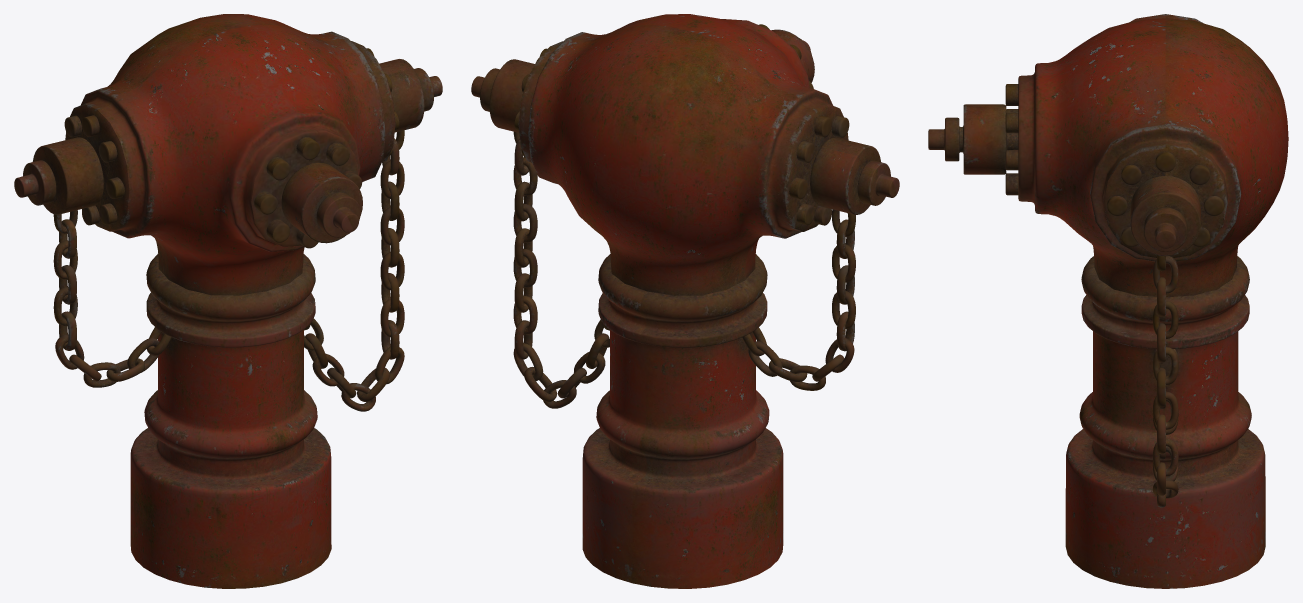
Rendered from HYDRANT.fbx.
3 views of the same model, side by side, from view 1: azimuth 30°, elevation 25°; view 2: azimuth 150°, elevation 25°; view 3: azimuth 270°, elevation 25° (orthographic).
Visible parts, largest first — view 1: HYDRANT; view 2: HYDRANT; view 3: HYDRANT.
Boxes of the visible parts, box(x1,y1,x2,y2) form: HYDRANT: box(14, 14, 442, 588); HYDRANT: box(471, 14, 899, 588); HYDRANT: box(928, 14, 1288, 588).
Bounding box in the file's own units: 63.29 × 74.61 × 47.46.
